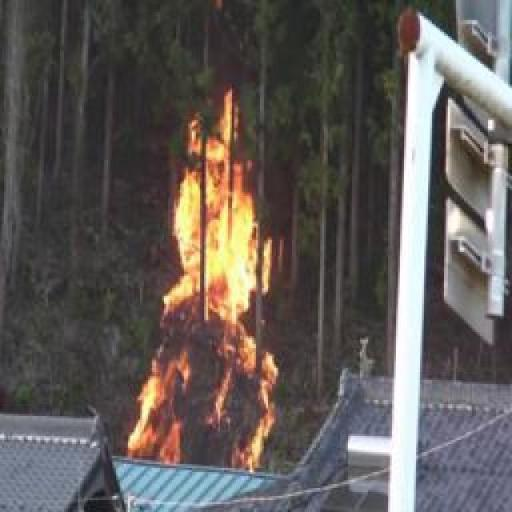smoke: (128, 90, 273, 466)
